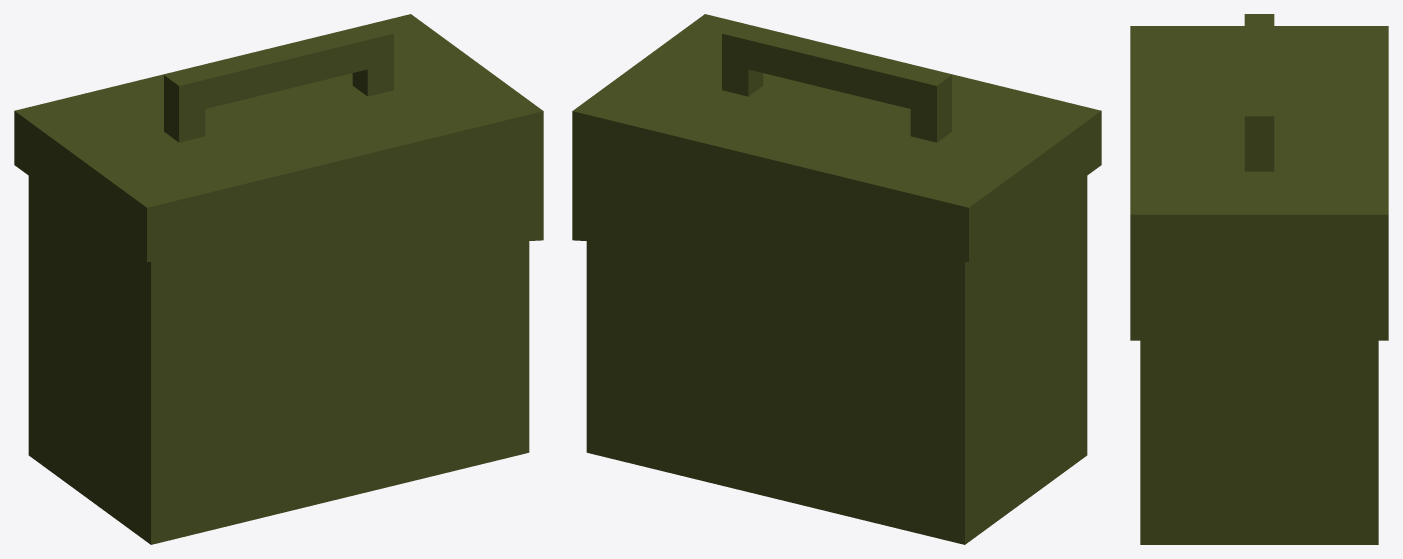
The model's file is Ammo_Box.fbx.
The picture shows the model from 3 angles, left to right: view 1: azimuth 30°, elevation 25°; view 2: azimuth 150°, elevation 25°; view 3: azimuth 270°, elevation 25°; orthographic projection. The views are drawn at different scales.
Visible parts, largest first — view 1: Ammo Box; view 2: Ammo Box; view 3: Ammo Box.
Boxes of the visible parts, x1,y1,x2,y2 form: Ammo Box: [14, 14, 543, 544]; Ammo Box: [572, 14, 1101, 544]; Ammo Box: [1130, 14, 1388, 544].
Size of the model in its own units: 21.01 by 20.25 by 12.17.
